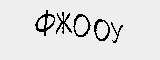Ж: (55, 9, 73, 34)
О: (73, 10, 89, 37), (93, 16, 109, 42)
У: (109, 21, 125, 45)
Ф: (37, 9, 54, 36)
